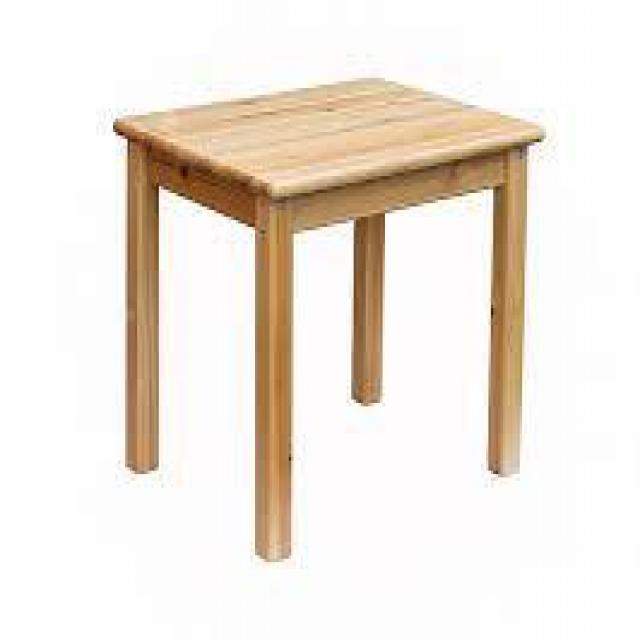table: (78, 42, 562, 547)
